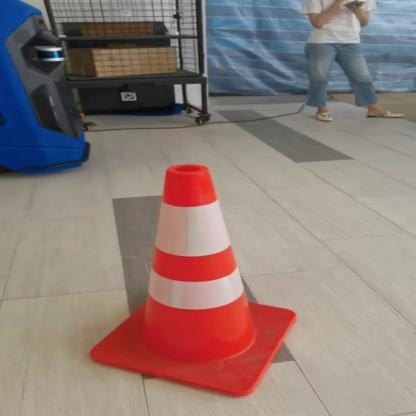cone: (91, 160, 307, 405)
